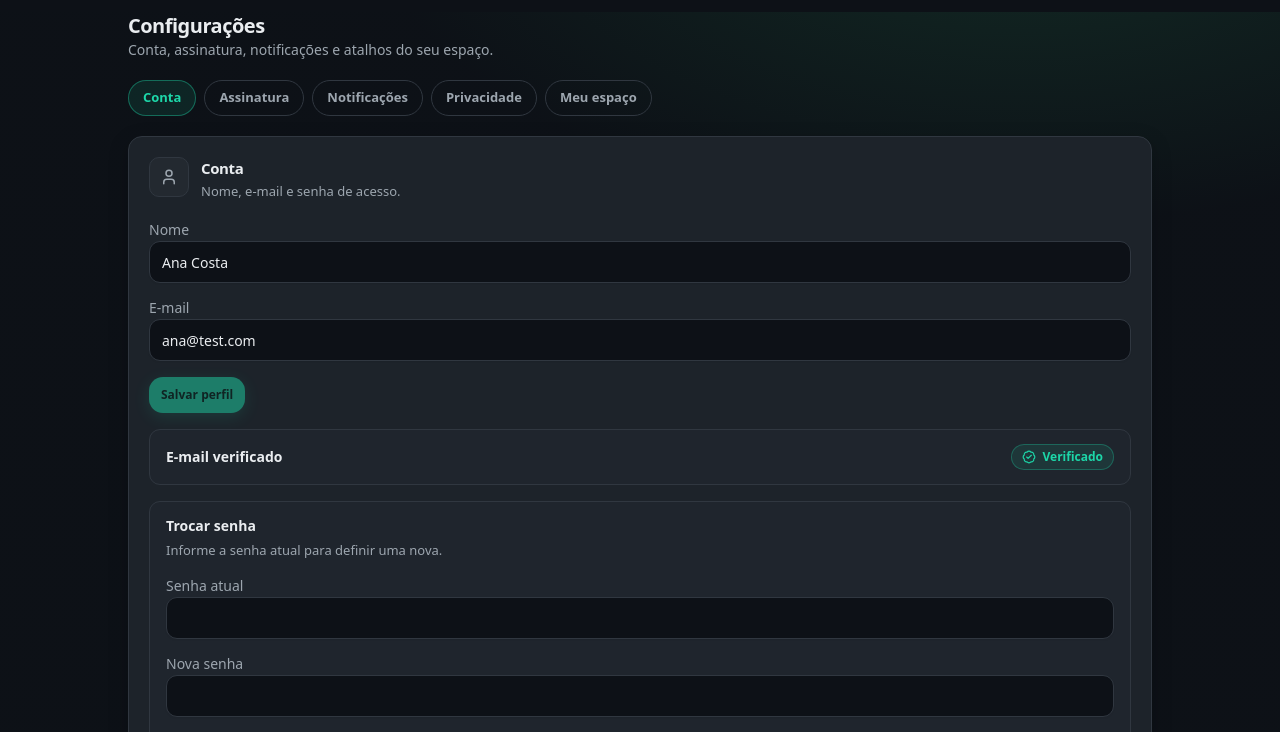
Test case: CreatorSettingsPage › loads digest settings in notifications section
Click the button "Notificações". click: coordinates (368, 98)
box: [312,80,423,116]
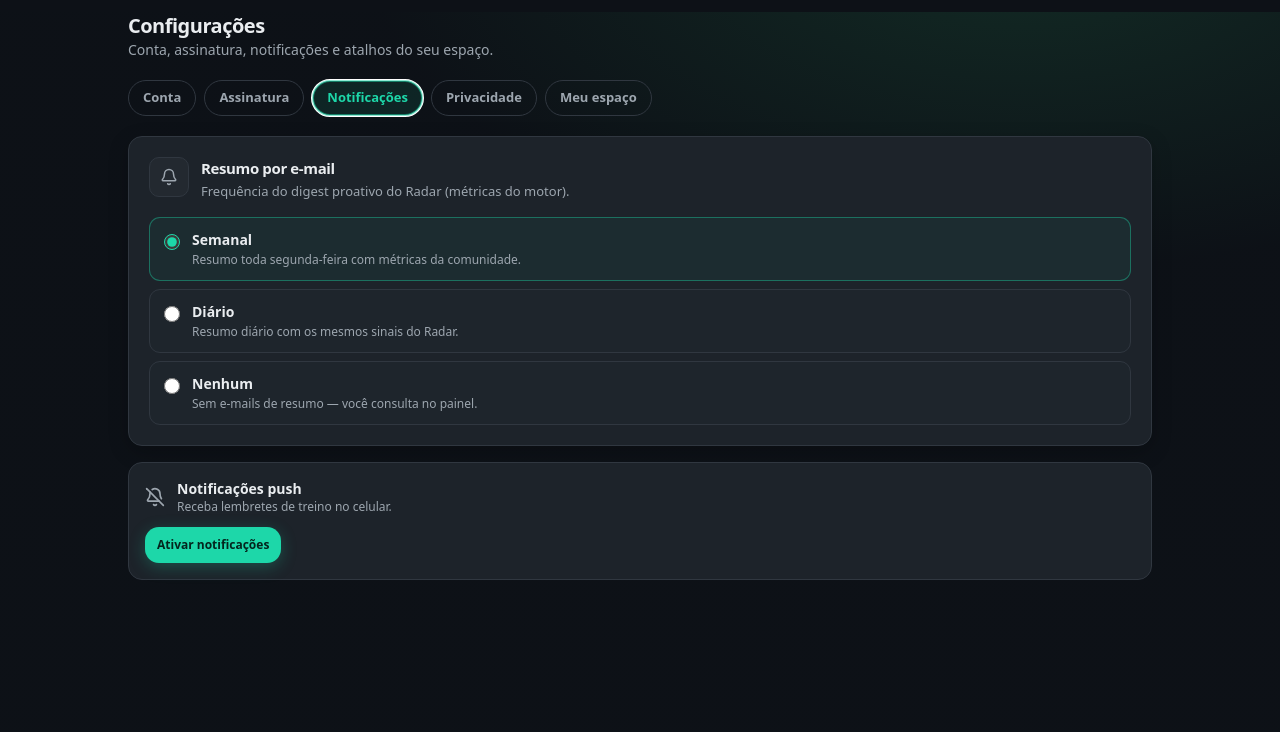
Check: the text "Semanal" is shown, box [192,230,252,249]
